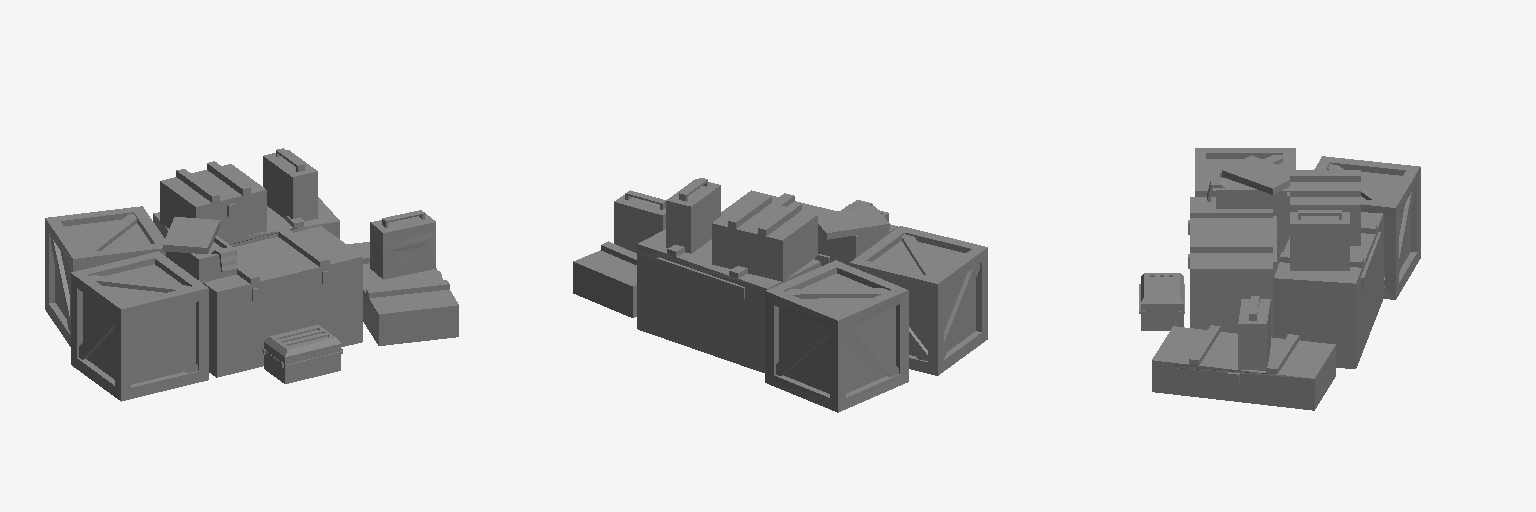
The model's file is Testing.obj.
The picture shows the model from 3 angles: view 1: azimuth 30°, elevation 25°; view 2: azimuth 150°, elevation 25°; view 3: azimuth 270°, elevation 25°; orthographic projection.
Visible parts, largest first — view 1: AmmoPile; view 2: AmmoPile; view 3: AmmoPile.
Part boxes in pixels (x1,y1,x2,y2): AmmoPile: (45,148,458,401); AmmoPile: (573,178,987,412); AmmoPile: (1139,148,1420,410).
Bounding box in the file's own units: 94.5 × 36.15 × 64.8.